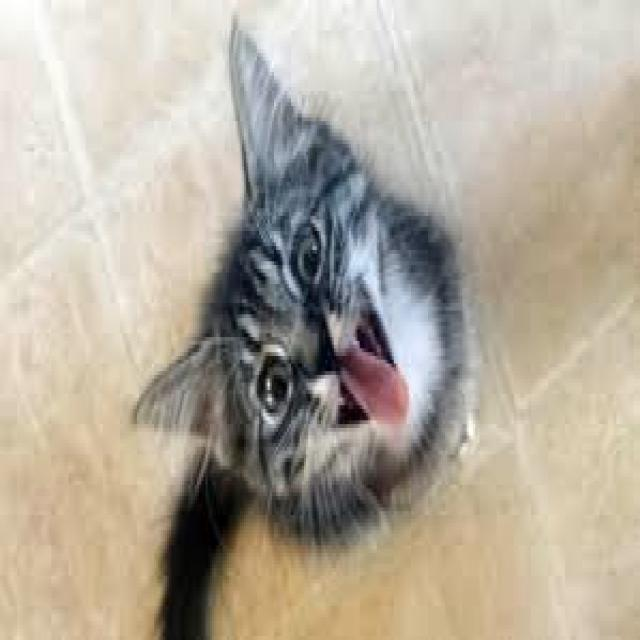cat: (135, 23, 471, 636)
